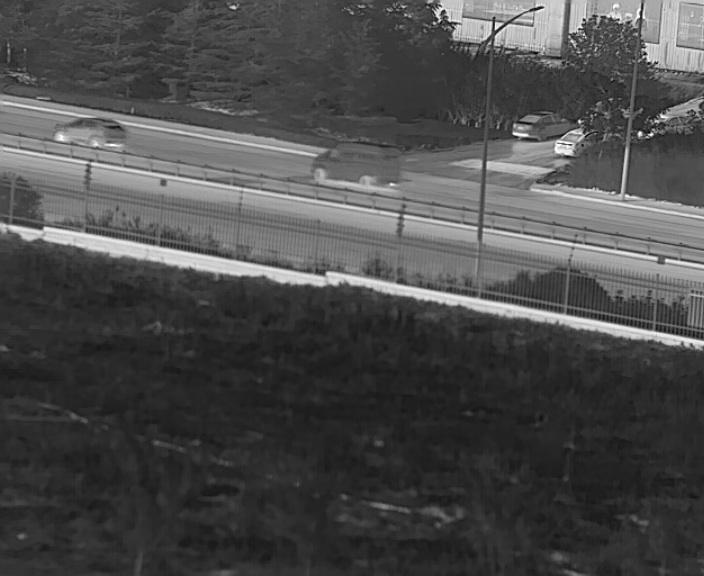vehicle: (311, 144, 402, 191), (55, 117, 124, 147), (511, 111, 556, 140), (553, 126, 585, 155)
